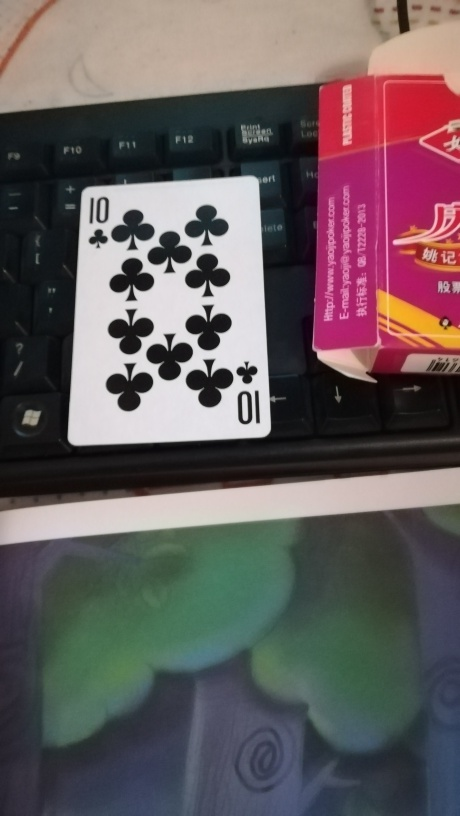mh 10: (68, 171, 274, 448)
